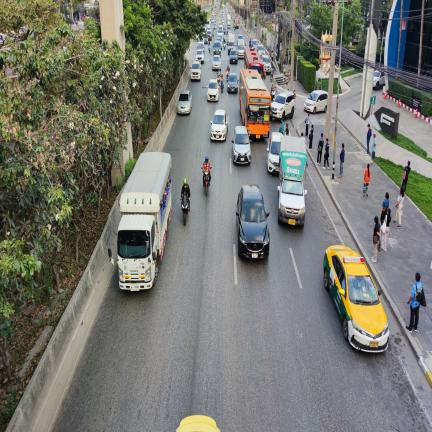bus: (238, 68, 271, 139), (244, 48, 264, 75)
car: (236, 185, 270, 259), (232, 125, 251, 164), (270, 91, 295, 120), (267, 132, 283, 173), (304, 90, 328, 114), (210, 110, 228, 141), (177, 90, 192, 114), (207, 78, 219, 101), (227, 72, 238, 93), (262, 54, 272, 75), (191, 61, 201, 81), (195, 49, 204, 64), (212, 55, 221, 70), (213, 40, 221, 56), (237, 43, 245, 58), (230, 49, 238, 64), (257, 45, 266, 57), (237, 34, 244, 45), (252, 39, 259, 49), (197, 41, 204, 50)
human: (406, 272, 423, 333), (394, 186, 405, 228), (381, 209, 391, 252), (371, 215, 380, 262), (181, 178, 191, 212), (380, 192, 389, 225), (402, 161, 411, 192), (202, 156, 211, 186), (363, 164, 371, 197), (316, 133, 324, 164), (338, 143, 345, 178), (365, 124, 372, 154), (371, 134, 377, 166), (323, 138, 329, 169), (308, 125, 314, 152), (305, 113, 310, 136)
motorbike: (181, 194, 190, 225), (203, 170, 210, 196), (271, 89, 275, 101), (221, 80, 224, 93), (226, 70, 229, 80), (223, 42, 226, 50), (208, 43, 210, 53)
taxi: (323, 245, 389, 352)
truck: (117, 152, 172, 291), (278, 136, 308, 226), (228, 34, 235, 54), (111, 258, 113, 263)
